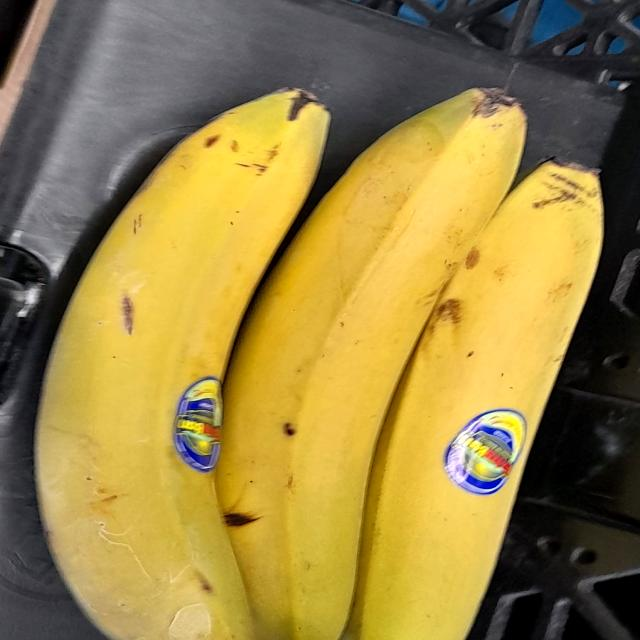banana: (28, 79, 624, 640)
